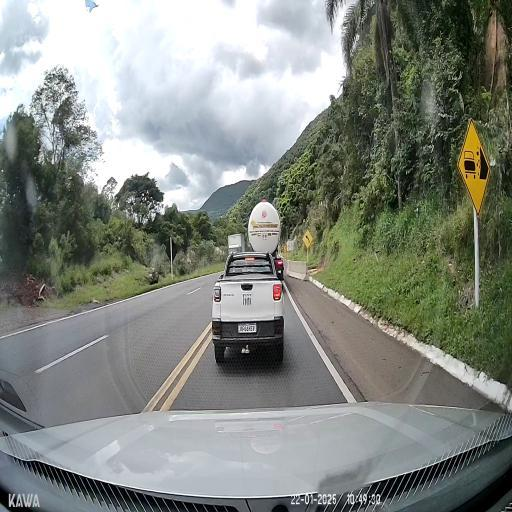A-27: (456, 116, 490, 214)
A-2a: (302, 230, 313, 248)
